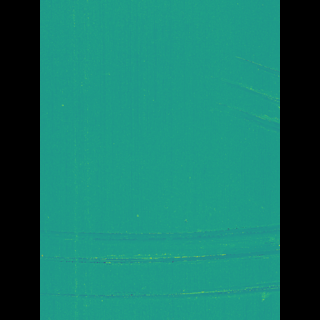Loch: (68, 217, 250, 308), (188, 50, 250, 139)
